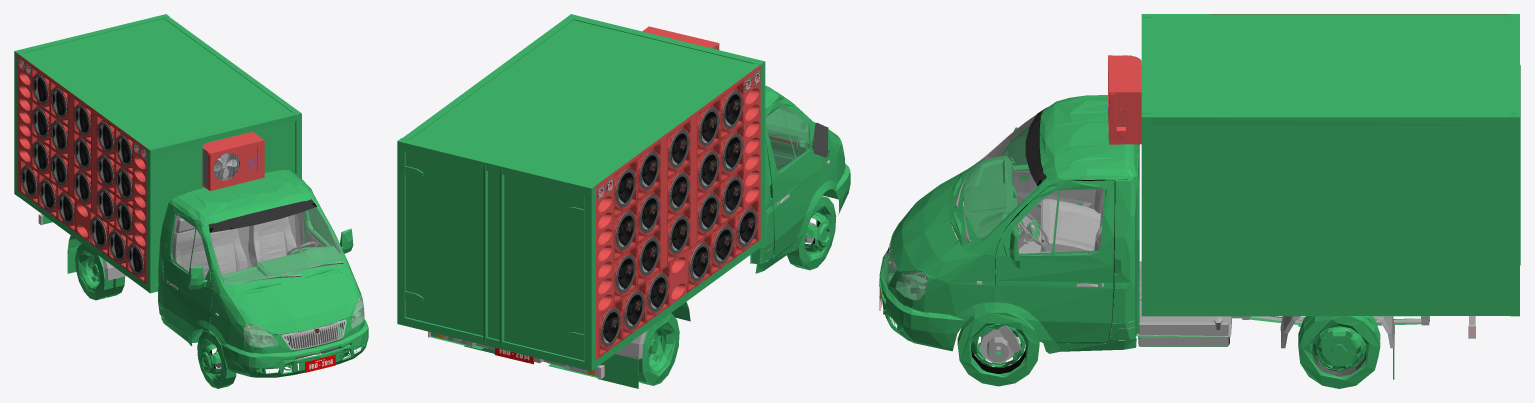
The model's file is carro_som_verde.glb.
The picture shows the model from 3 angles, left to right: view 1: azimuth 30°, elevation 25°; view 2: azimuth 150°, elevation 25°; view 3: azimuth 270°, elevation 25°; orthographic projection. The views are drawn at different scales.
Size of what is drawn, in the model's own units: 1.88 by 2.23 by 4.6.
80 materials, 14 textured.
